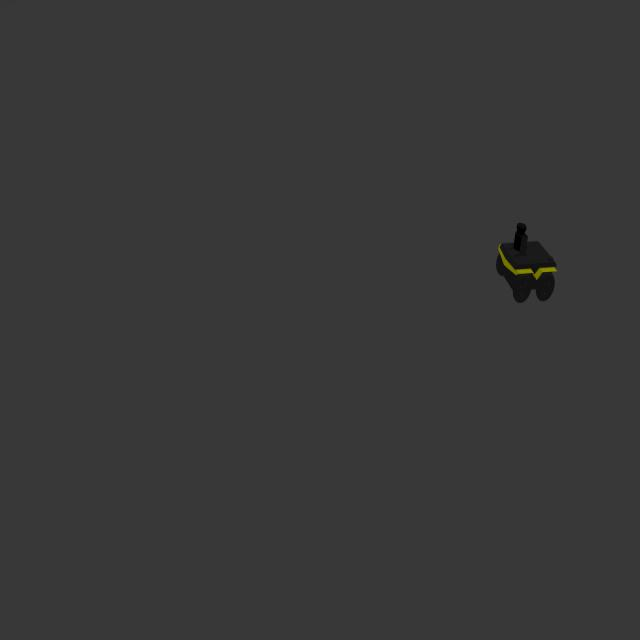jackal: (495, 218, 557, 306)
